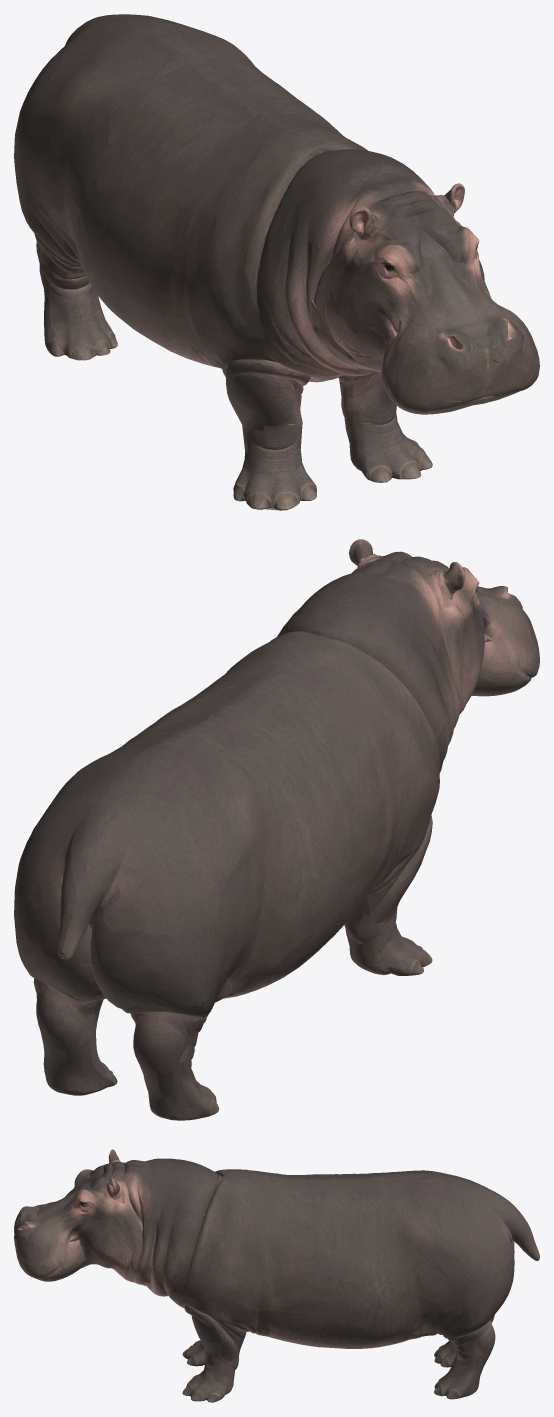
The model's file is hippopotamus.glb.
3 renders of one model, top to bottom at view 1: azimuth 30°, elevation 25°; view 2: azimuth 150°, elevation 25°; view 3: azimuth 270°, elevation 25°, orthographic. The views are drawn at different scales.
Bounding box in the file's own units: 0.6145 × 0.8396 × 1.9.
1 material, 1 textured.
